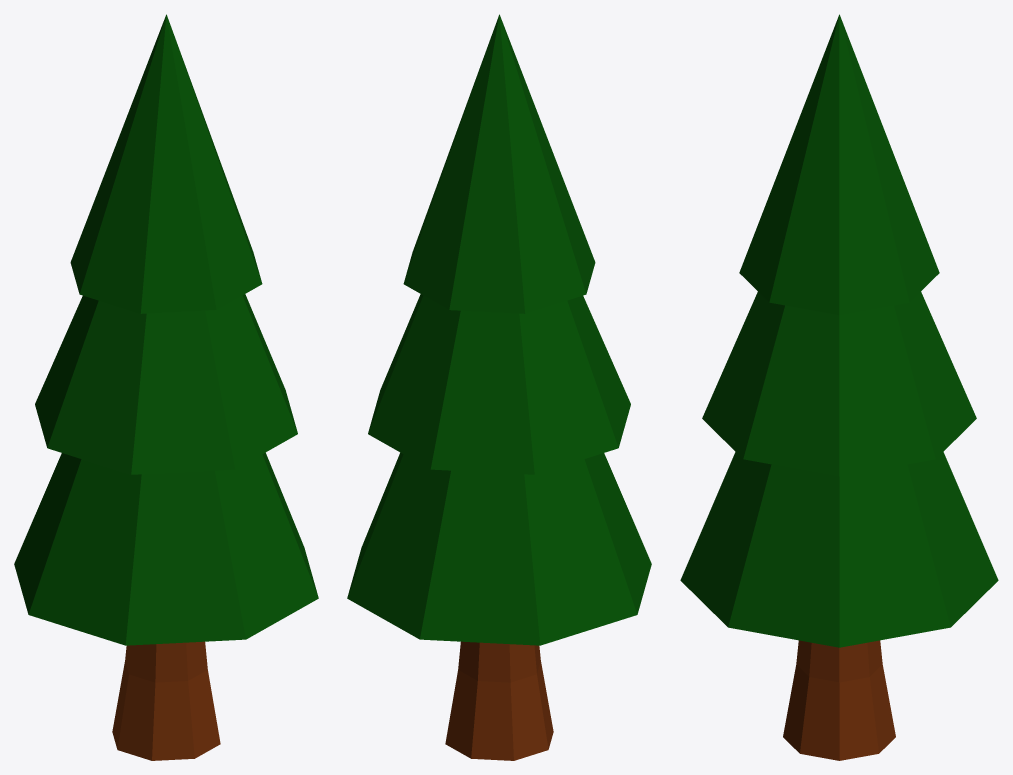
Rendered from PineTreeLOD1.fbx.
The picture shows the model from 3 angles, left to right: view 1: azimuth 30°, elevation 25°; view 2: azimuth 150°, elevation 25°; view 3: azimuth 270°, elevation 25°; orthographic projection.
Visible parts, largest first — view 1: Tree; view 2: Tree; view 3: Tree.
Boxes of the visible parts, left/top/right/bottom form: Tree: left=14, top=14, right=318, bottom=760; Tree: left=347, top=14, right=651, bottom=760; Tree: left=680, top=14, right=998, bottom=760.
Size of the model in its own units: 891 by 891 by 2234.
